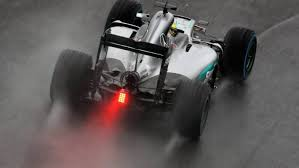f1_car: (45, 1, 262, 152)
